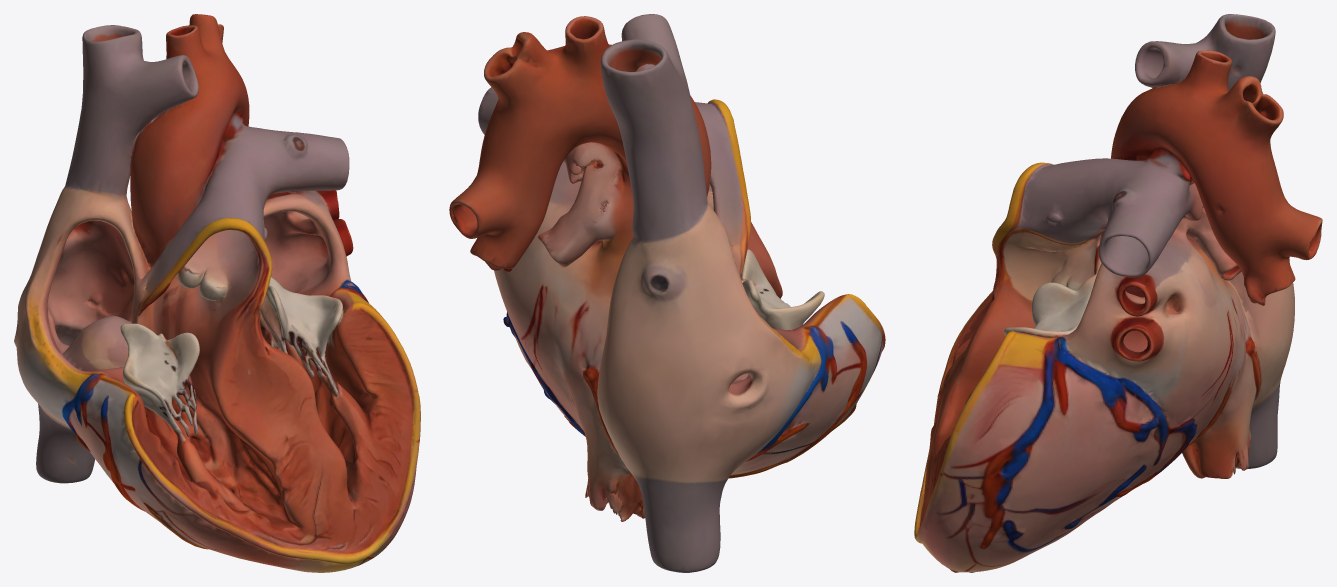
File: heart.glb
3 views of the same model, side by side, from view 1: azimuth 30°, elevation 25°; view 2: azimuth 150°, elevation 25°; view 3: azimuth 270°, elevation 25° (orthographic). The views are drawn at different scales.
Parts seen in each view (by area): view 1: tripo_node_d1d1204e-8595-4129-8659-bcd38ee65d1c; view 2: tripo_node_d1d1204e-8595-4129-8659-bcd38ee65d1c; view 3: tripo_node_d1d1204e-8595-4129-8659-bcd38ee65d1c.
Boxes of the visible parts, bbox=[...] form: tripo_node_d1d1204e-8595-4129-8659-bcd38ee65d1c: bbox=[14, 14, 420, 572]; tripo_node_d1d1204e-8595-4129-8659-bcd38ee65d1c: bbox=[449, 14, 885, 572]; tripo_node_d1d1204e-8595-4129-8659-bcd38ee65d1c: bbox=[914, 14, 1322, 572].
Bounding box in the file's own units: 0.6736 × 0.9998 × 0.752.
1 material, 1 textured.
